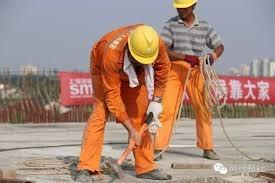NoHelmet: (127, 25, 159, 63)
